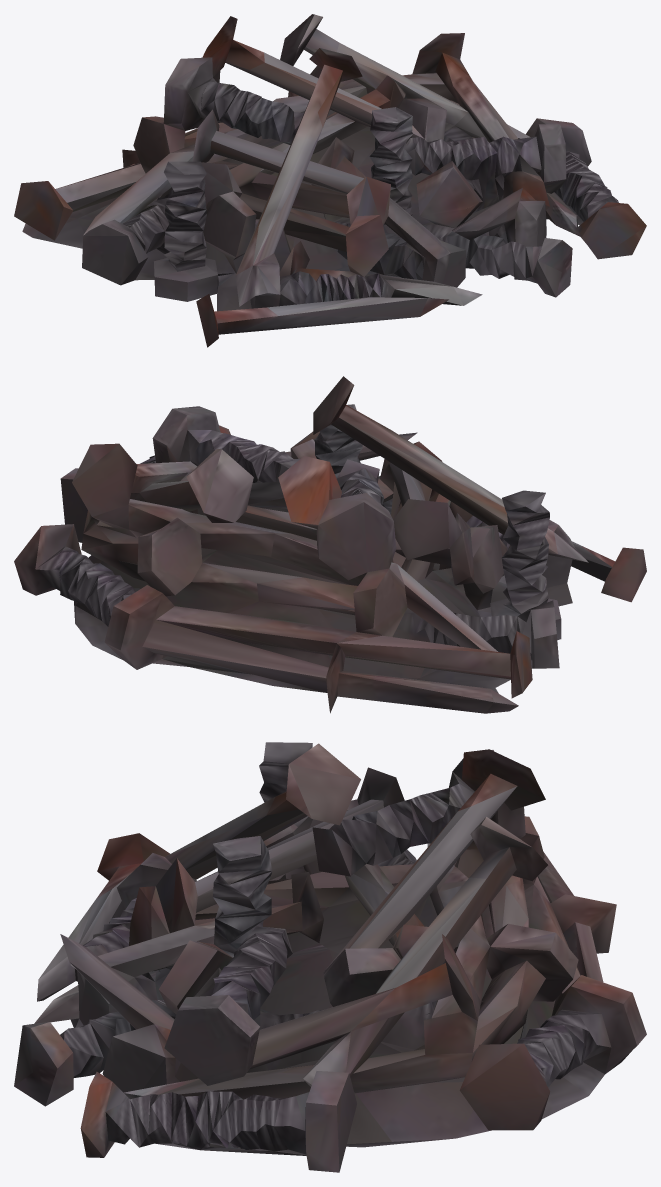
Rendered from mat_nails_gvozdi_idle.glb.
3 views of the same model, one above another, from view 1: azimuth 30°, elevation 25°; view 2: azimuth 150°, elevation 25°; view 3: azimuth 270°, elevation 25° (orthographic). The views are drawn at different scales.
Parts seen in each view (by area): view 1: tripo_node_83f7bcb3-a6f2-4ede-ad5a-49f6baa190cd; view 2: tripo_node_83f7bcb3-a6f2-4ede-ad5a-49f6baa190cd; view 3: tripo_node_83f7bcb3-a6f2-4ede-ad5a-49f6baa190cd.
Boxes of the visible parts, <box> form: tripo_node_83f7bcb3-a6f2-4ede-ad5a-49f6baa190cd: <box>14,14,646,347</box>; tripo_node_83f7bcb3-a6f2-4ede-ad5a-49f6baa190cd: <box>14,376,646,713</box>; tripo_node_83f7bcb3-a6f2-4ede-ad5a-49f6baa190cd: <box>14,742,646,1172</box>.
Bounding box in the file's own units: 0.1022 × 0.0402 × 0.0842.
1 material, 1 textured.
